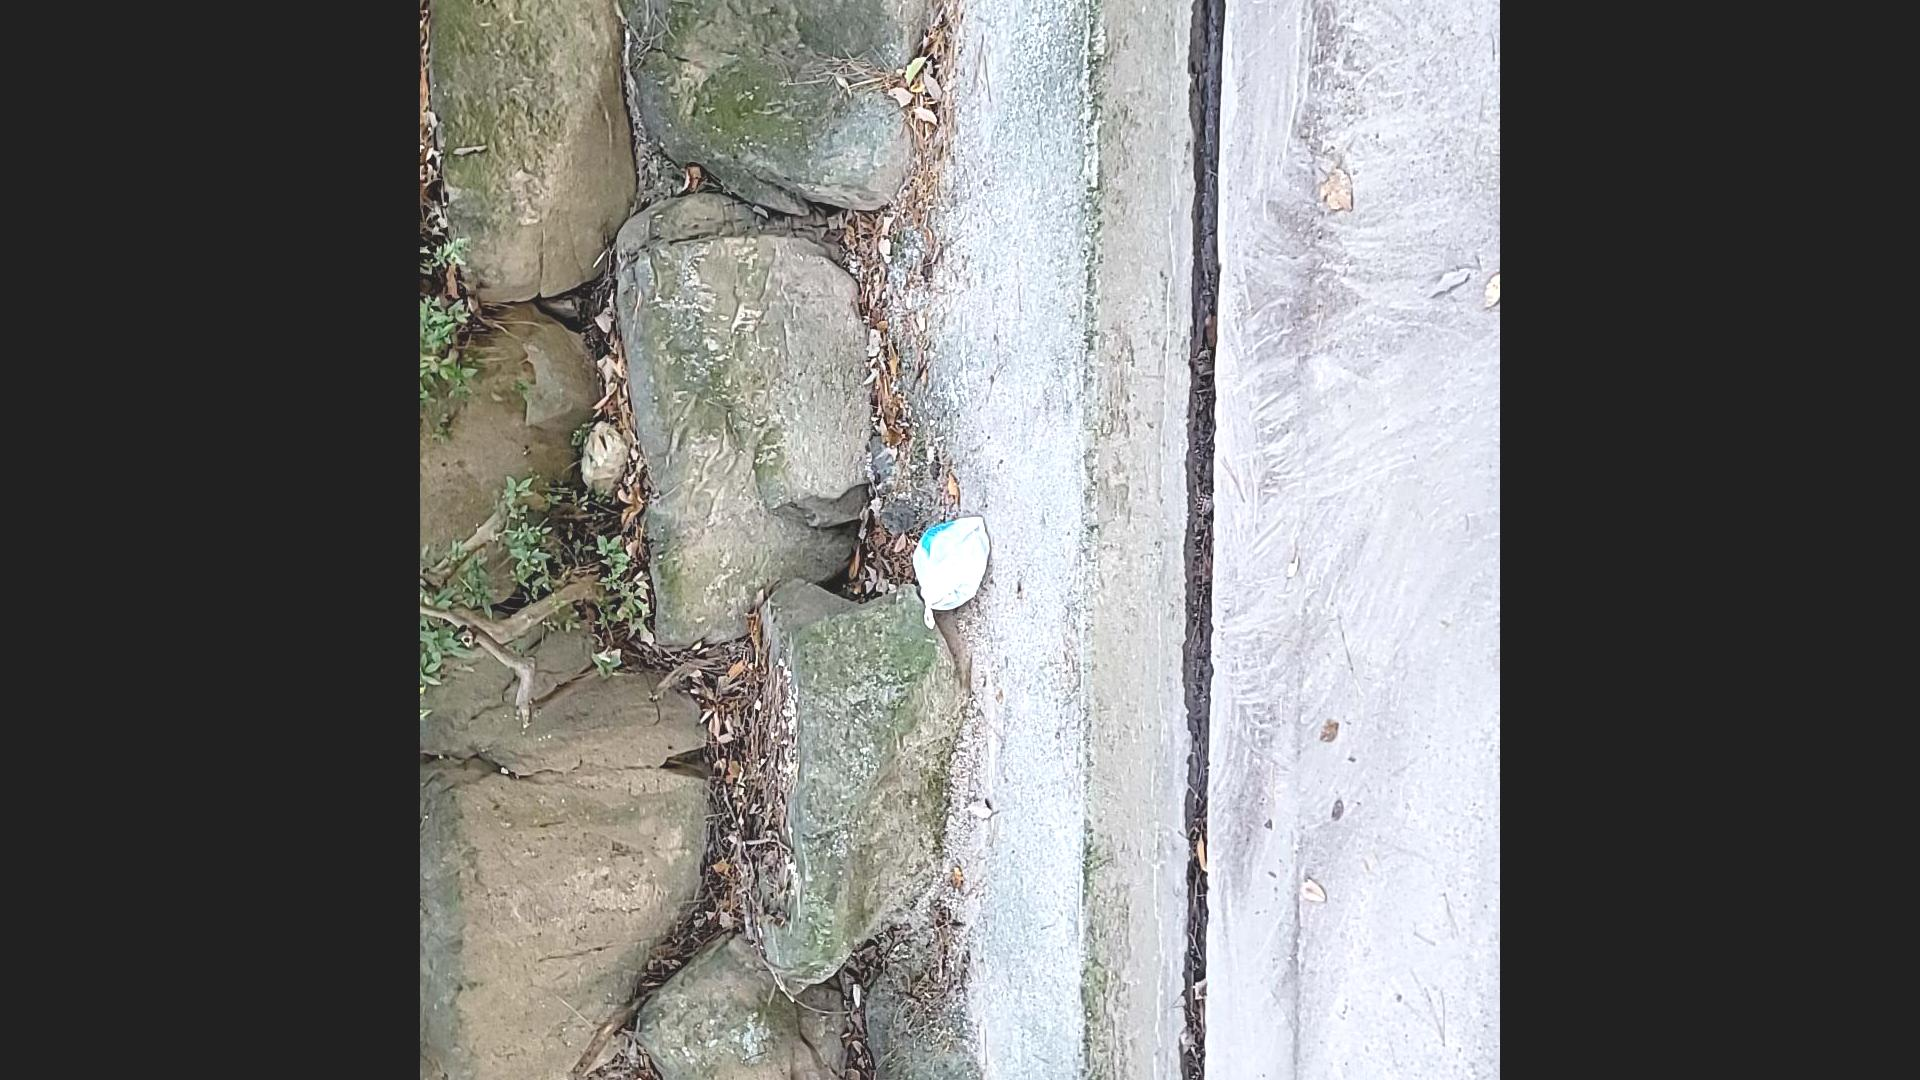white_bag: (909, 502, 1001, 638)
